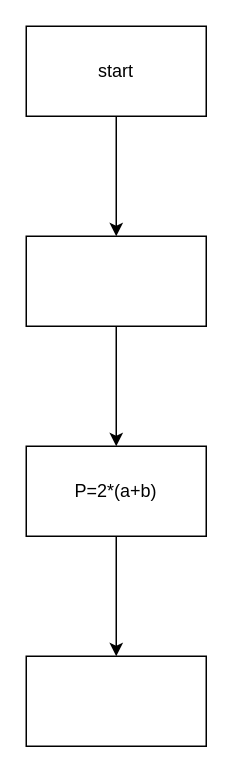
Some shapes in this 233 by 773 pixel diagram are drawn without their labels. Each missing label, with the centre of its shape:
method,a,b.: pixel 115 280
print: pixel 115 700
